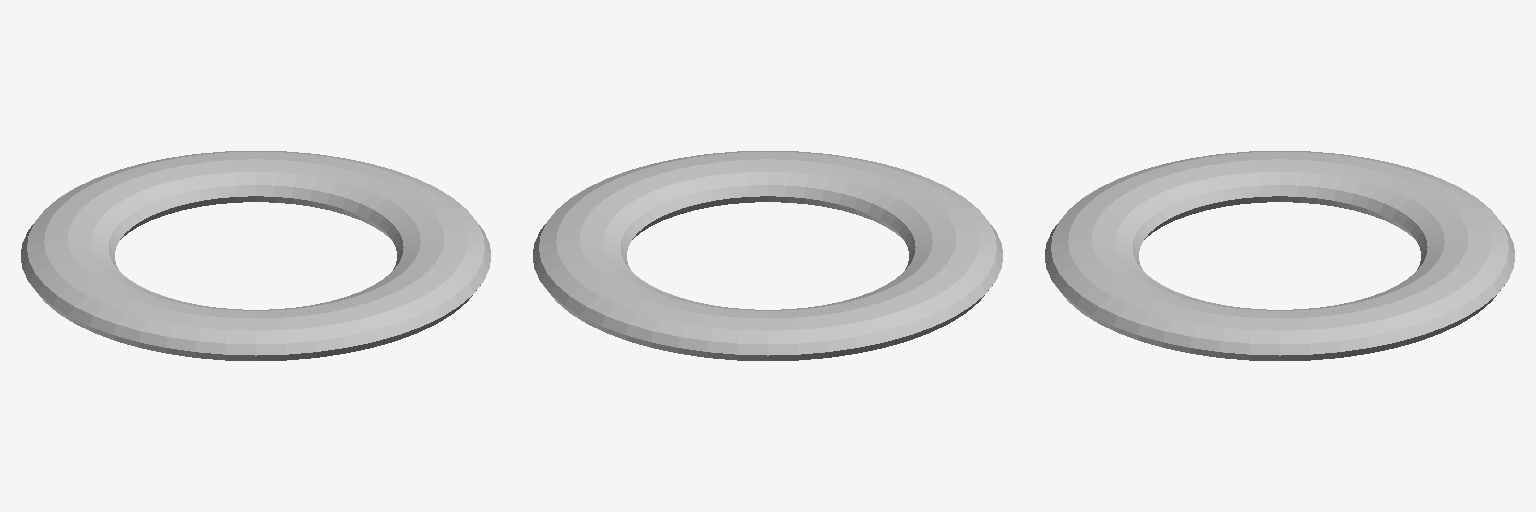
File: ring.obj
3 renders of one model, left to right at view 1: azimuth 30°, elevation 25°; view 2: azimuth 150°, elevation 25°; view 3: azimuth 270°, elevation 25°, orthographic.
Visible parts, largest first — view 1: Torus; view 2: Torus; view 3: Torus.
Part boxes in pixels (x1,y1,x2,y2): Torus: (21,151,490,360); Torus: (533,151,1002,360); Torus: (1045,151,1514,360).
Size of the model in its own units: 6.25 by 0.5 by 6.25.